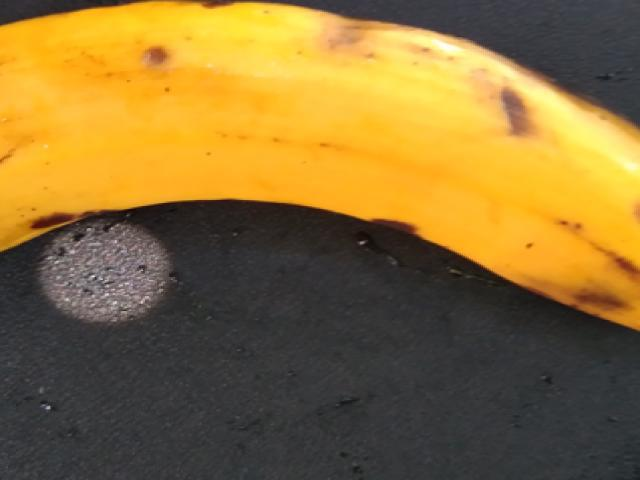overripe: (0, 0, 639, 386)
